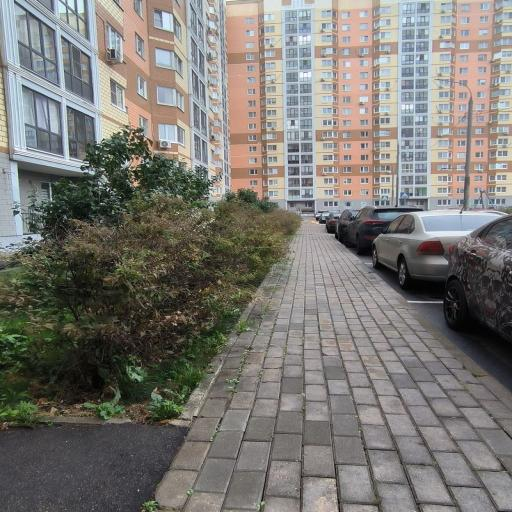bottle: (370, 210, 499, 288), (444, 215, 511, 342)
phone: (454, 81, 472, 209)
shelf: (157, 219, 511, 511)
